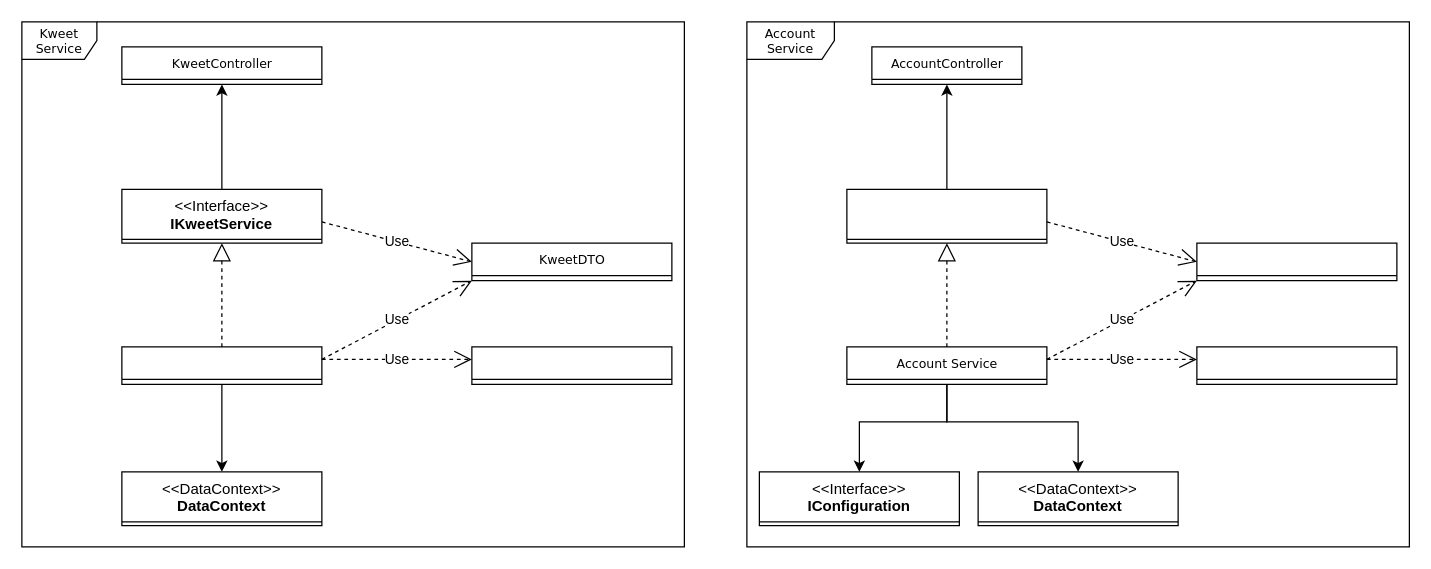
Some shapes in this 1431 by 569 pixel diagram are drawn without their labels. The shapes that lost their labels are listed below. From the top down, each one's centre as x and y in pixels, then its label:
At (x=946, y=215): "<<Interface>> IAccountService".
At (x=1296, y=261): "UserDTO".
At (x=221, y=365): "KweetService".
At (x=571, y=365): "Kweet".
At (x=1296, y=365): "User".
